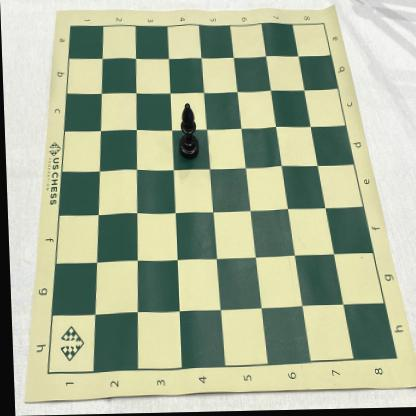black-bishop: (177, 104, 199, 160)
